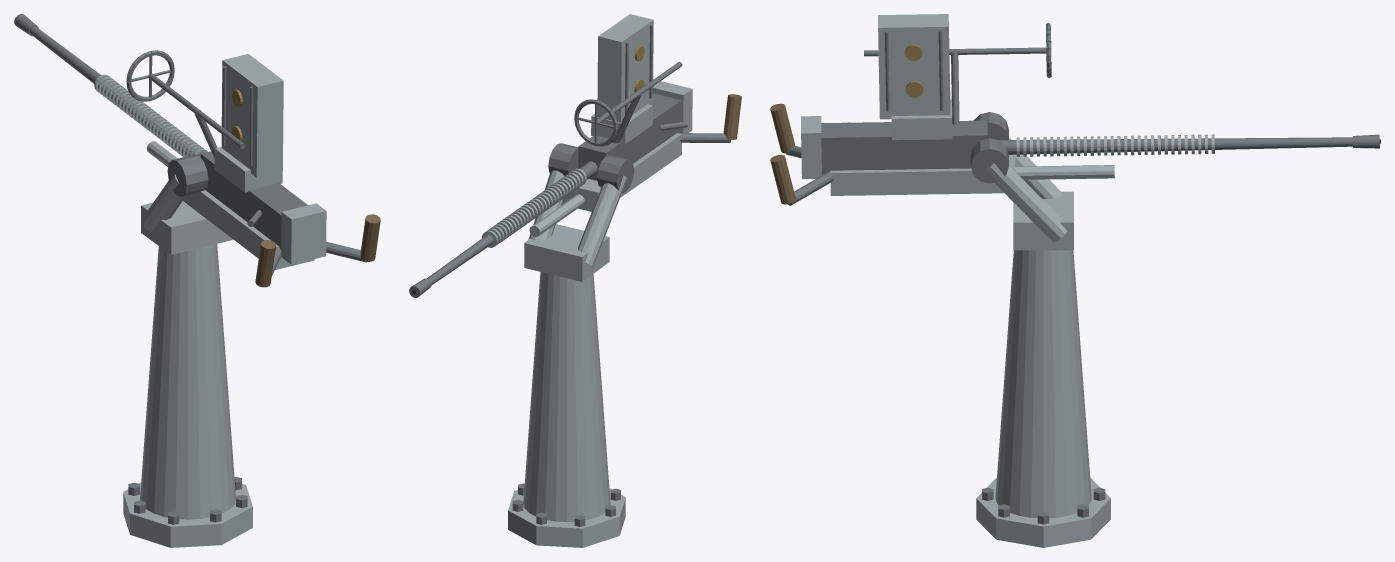
The picture shows the model from 3 angles, left to right: view 1: azimuth 30°, elevation 25°; view 2: azimuth 150°, elevation 25°; view 3: azimuth 270°, elevation 25°; orthographic projection. The views are drawn at different scales.
Visible parts, largest first — view 1: component.yaw.mesh, component.center.recoil.mesh, component.center.elevation.mesh, component.base.mesh; view 2: component.yaw.mesh, component.center.recoil.mesh, component.center.elevation.mesh, component.base.mesh; view 3: component.yaw.mesh, component.center.recoil.mesh, component.center.elevation.mesh, component.base.mesh.
Boxes of the visible parts, left/top/right/bottom form: component.yaw.mesh: left=140, top=154, right=235, bottom=519; component.center.recoil.mesh: left=14, top=14, right=326, bottom=264; component.center.elevation.mesh: left=126, top=50, right=380, bottom=287; component.base.mesh: left=123, top=477, right=252, bottom=547; component.yaw.mesh: left=523, top=143, right=634, bottom=522; component.center.recoil.mesh: left=409, top=14, right=692, bottom=297; component.center.elevation.mesh: left=529, top=61, right=741, bottom=236; component.base.mesh: left=508, top=483, right=625, bottom=547; component.yaw.mesh: left=970, top=112, right=1091, bottom=518; component.center.recoil.mesh: left=801, top=14, right=1380, bottom=178; component.center.elevation.mesh: left=770, top=23, right=1114, bottom=205; component.base.mesh: left=976, top=478, right=1110, bottom=547.
Bounding box in the file's own units: 0.406 × 1.64 × 1.82.
